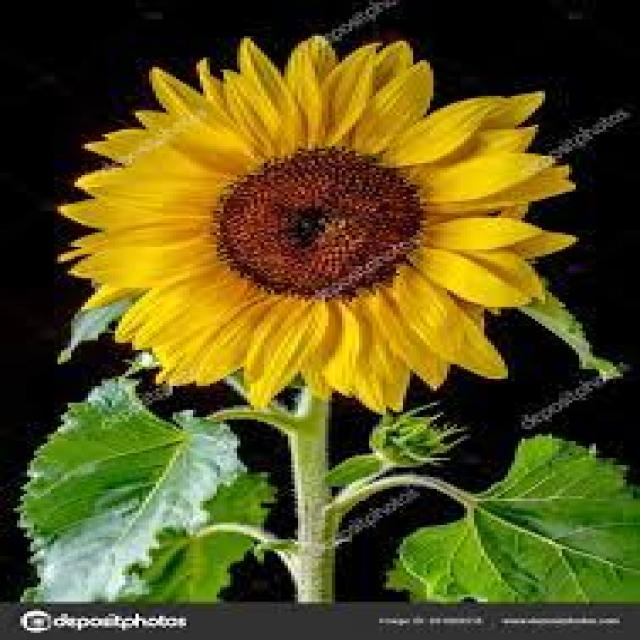sunflower: (38, 24, 603, 420)
